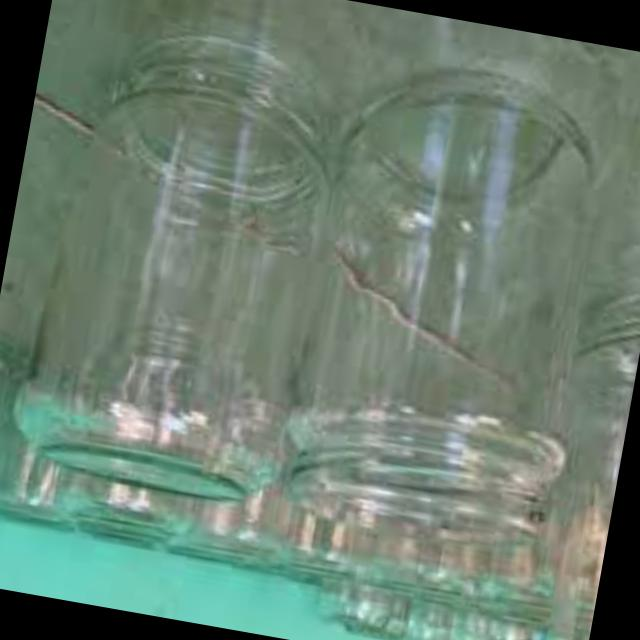ToplesKaca: (1, 5, 352, 522), (272, 53, 624, 558)
